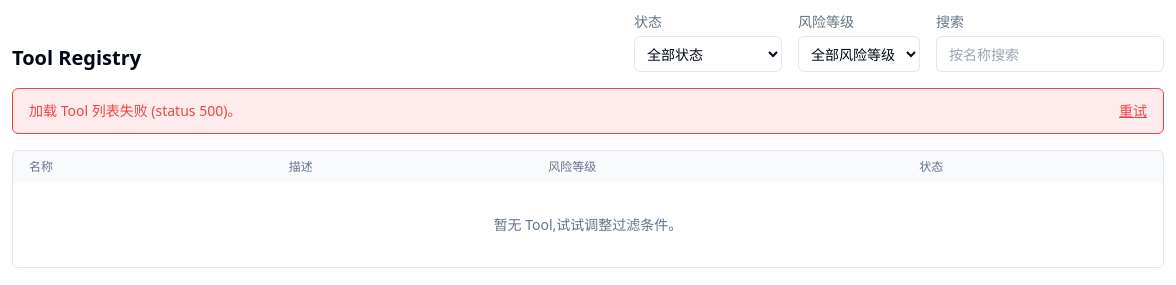
Scenario: ToolsTable › retry button refetches when the initial load failed
The image size is (1176, 285).
Expected: the message "加载 Tool 列表失败 (status 500)。 重试" is shown, [12,88,1164,134]
Step 1. Click the button "重试" → x=1133, y=111, box [1119,101,1147,121]
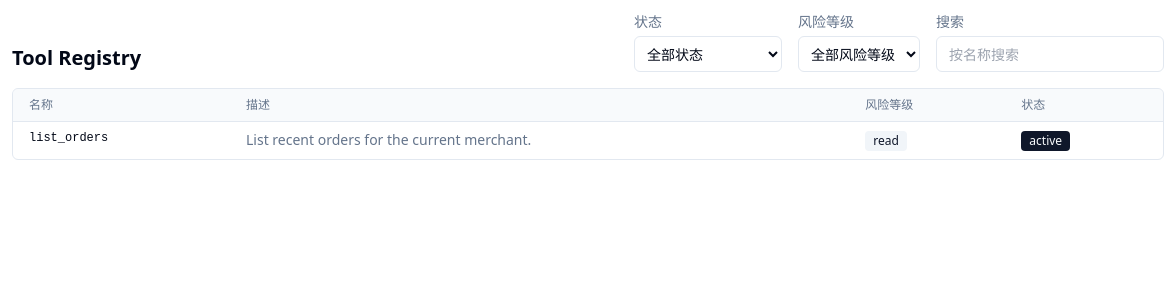
Expected: the text "List recent orders for the current merchant." is shown, [230,122,849,159]
